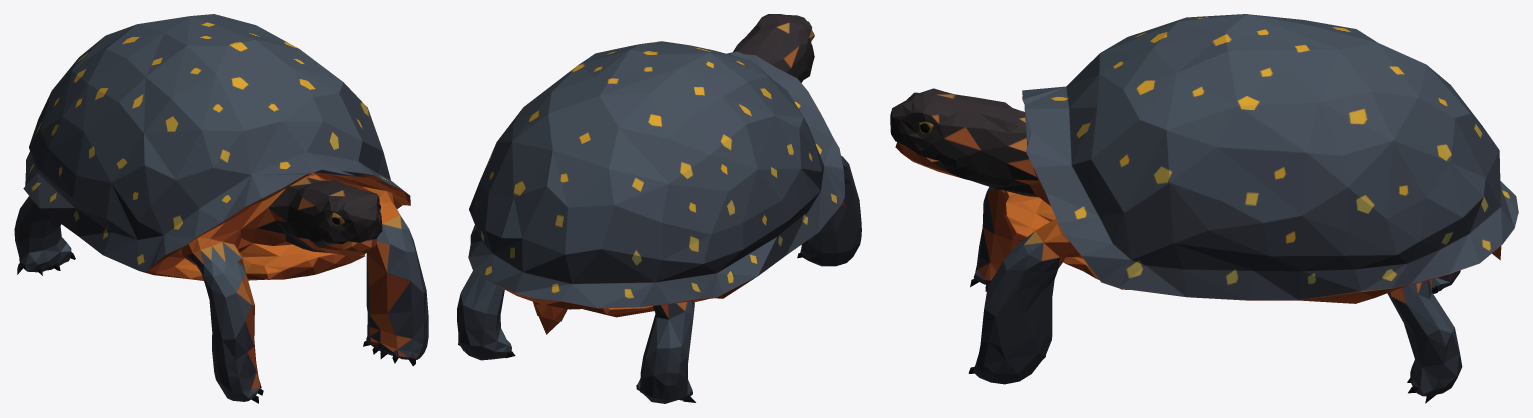
The model's file is Tortoise.glb.
The picture shows the model from 3 angles, left to right: view 1: azimuth 30°, elevation 25°; view 2: azimuth 150°, elevation 25°; view 3: azimuth 270°, elevation 25°; orthographic projection. The views are drawn at different scales.
Visible parts, largest first — view 1: turtle.1; view 2: turtle.1; view 3: turtle.1.
Part boxes in pixels (left/top/right/bottom): turtle.1: left=14, top=14, right=428, bottom=403; turtle.1: left=457, top=14, right=861, bottom=403; turtle.1: left=890, top=14, right=1518, bottom=403.
Bounding box in the file's own units: 0.4536 × 0.4079 × 0.7584.
1 material, 1 textured.
